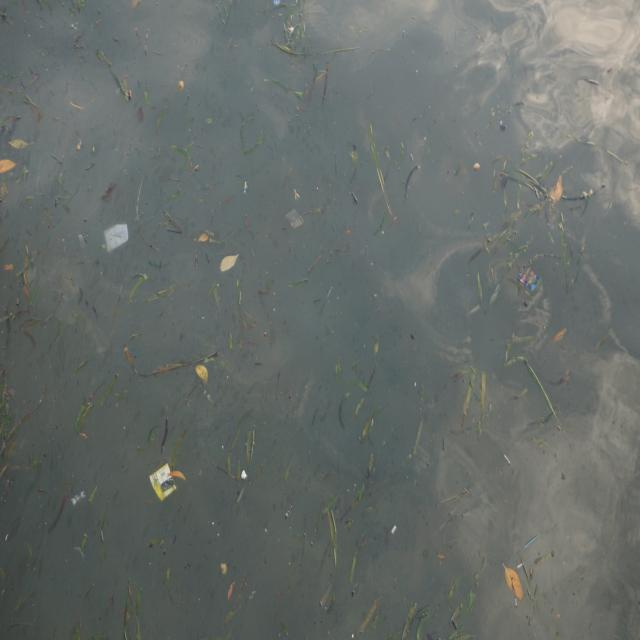Bungkus Makanan: (149, 461, 181, 509)
Kantong Plastik: (104, 222, 129, 254)
